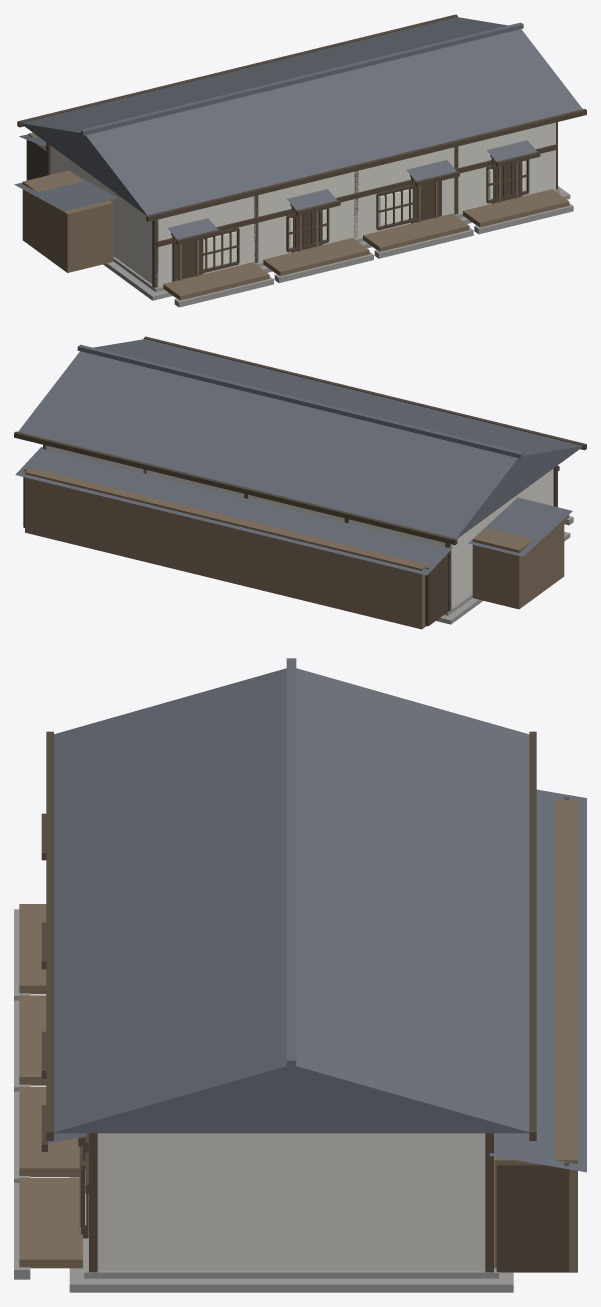
The model's file is family_nagaya_04bay.glb.
3 views of the same model, one above another, from view 1: azimuth 30°, elevation 25°; view 2: azimuth 150°, elevation 25°; view 3: azimuth 270°, elevation 25° (orthographic). The views are drawn at different scales.
Parts seen in each view (by area): view 1: family_nagaya_04bay; view 2: family_nagaya_04bay; view 3: family_nagaya_04bay.
Boxes of the visible parts, left/top/right/bottom form: family_nagaya_04bay: left=14, top=14, right=586, bottom=307; family_nagaya_04bay: left=14, top=336, right=586, bottom=629; family_nagaya_04bay: left=14, top=658, right=586, bottom=1292.
Size of the model in its own units: 19.01 by 4.95 by 10.61.
